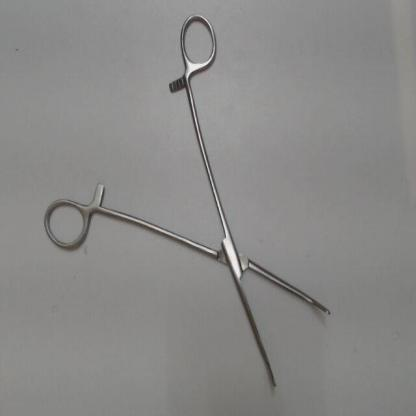Lahey Forceps: (35, 13, 335, 396)
